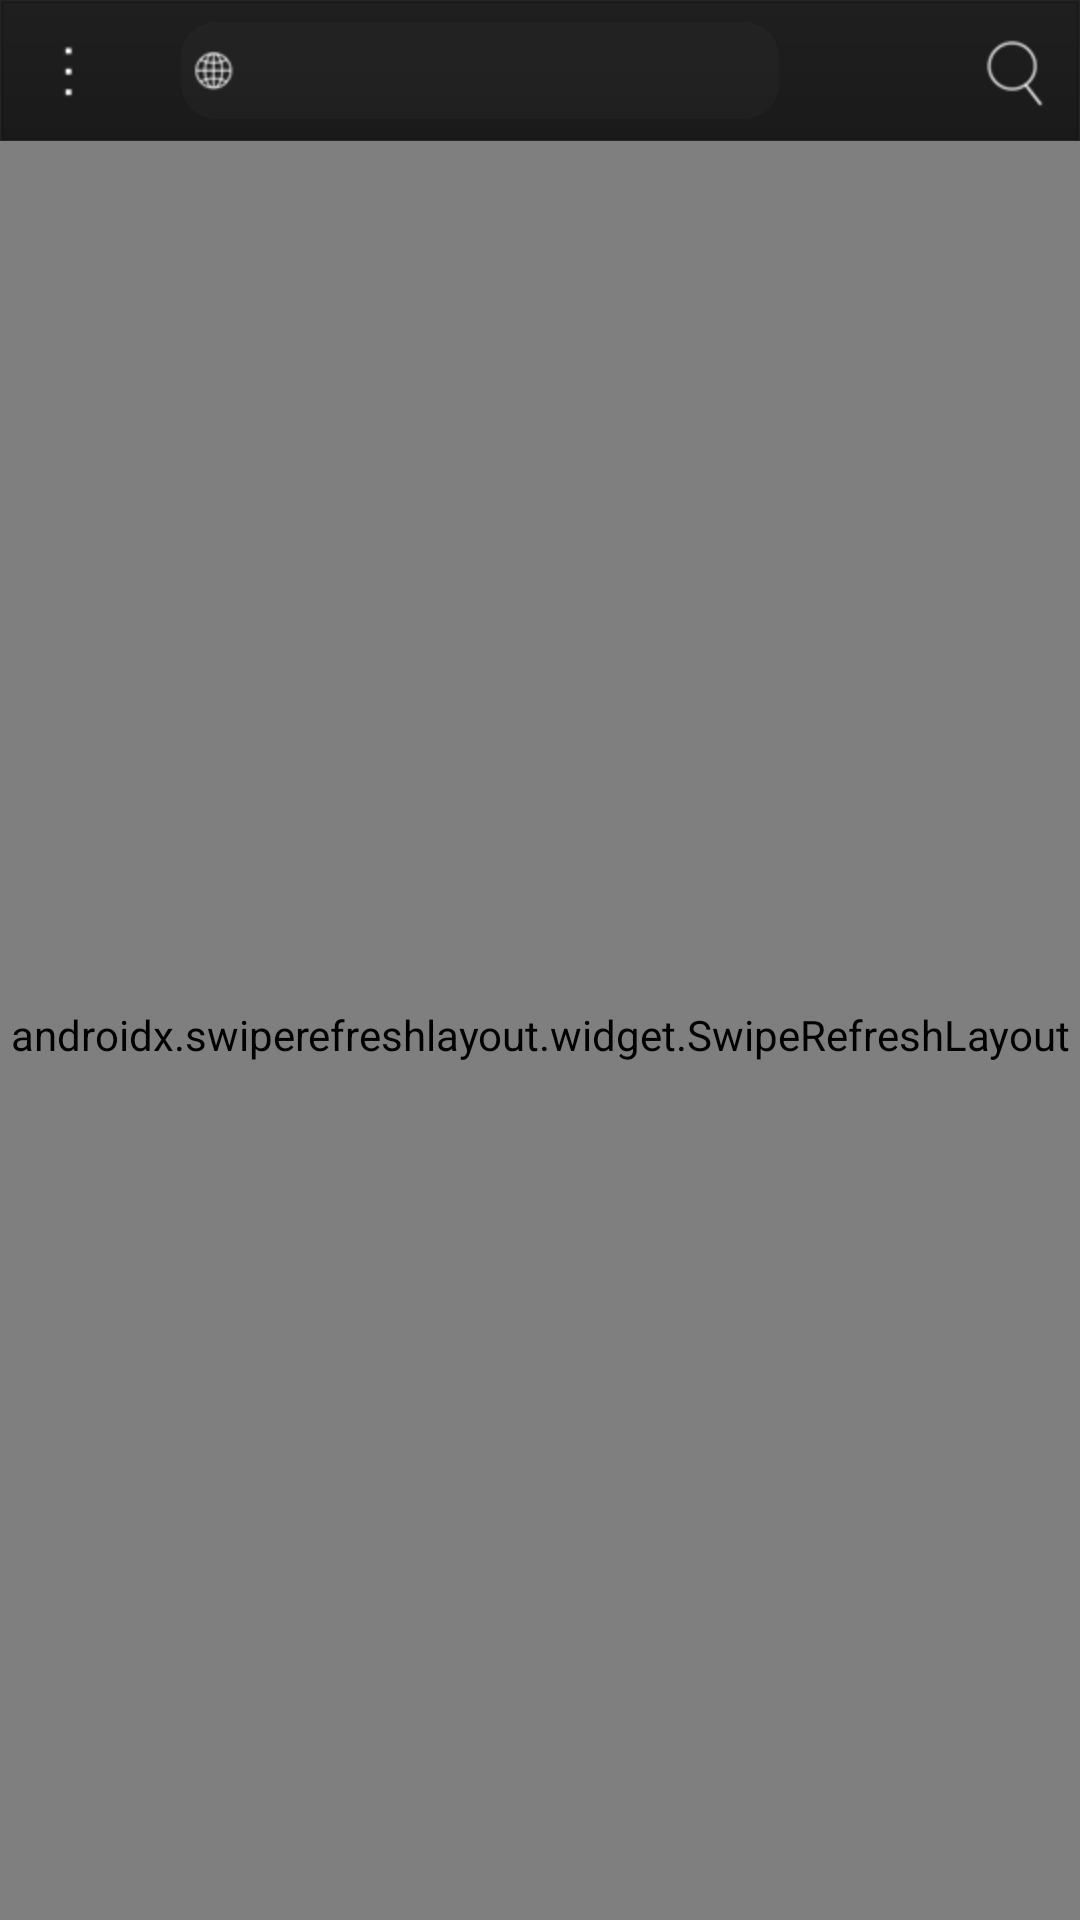

Point at icon controls on the screen. Image size 1080 x 1920, points as point (x, y).
search: point (1014, 73)
